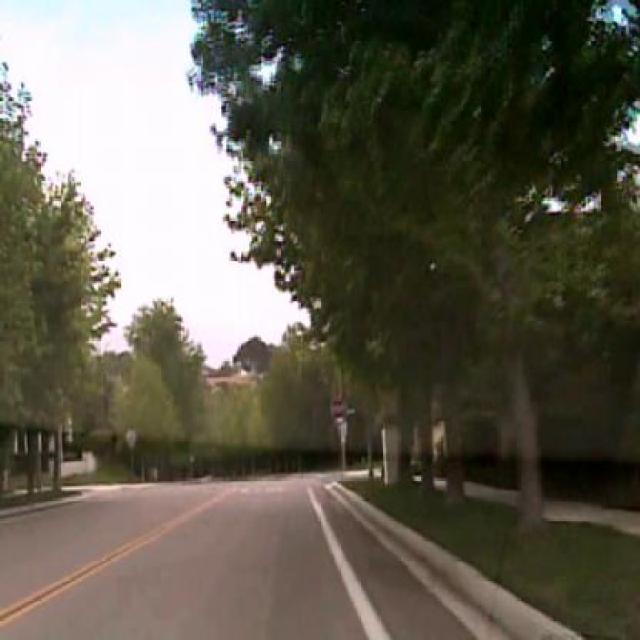stop: (332, 397, 348, 419)
